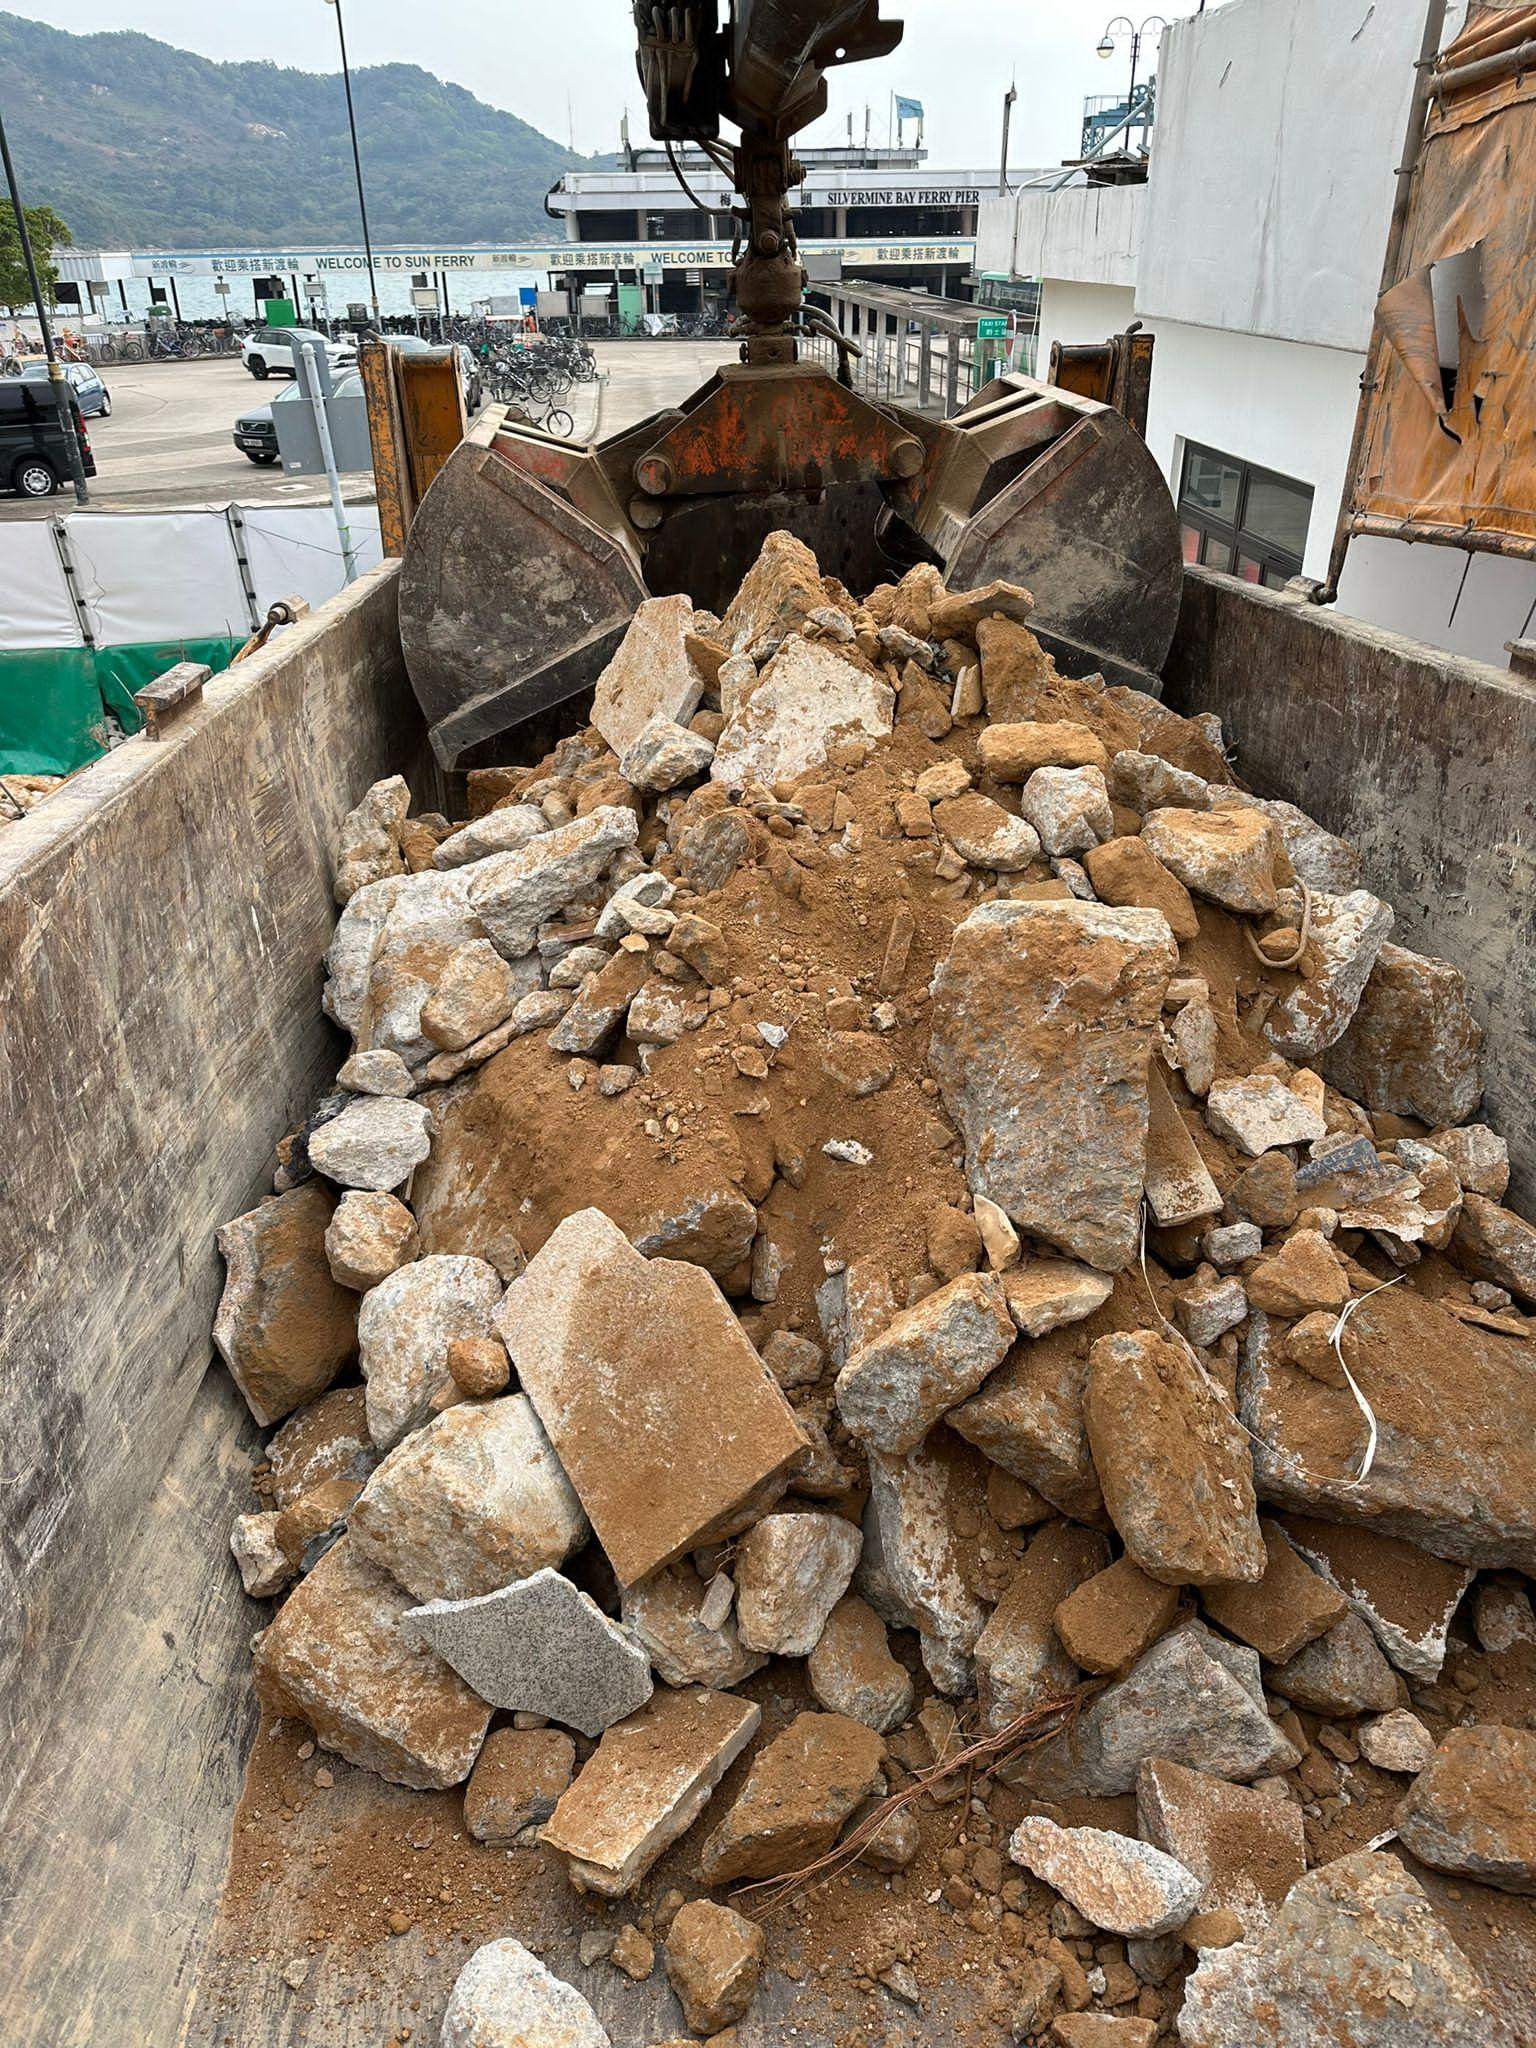dry: (237, 590, 1530, 2033)
